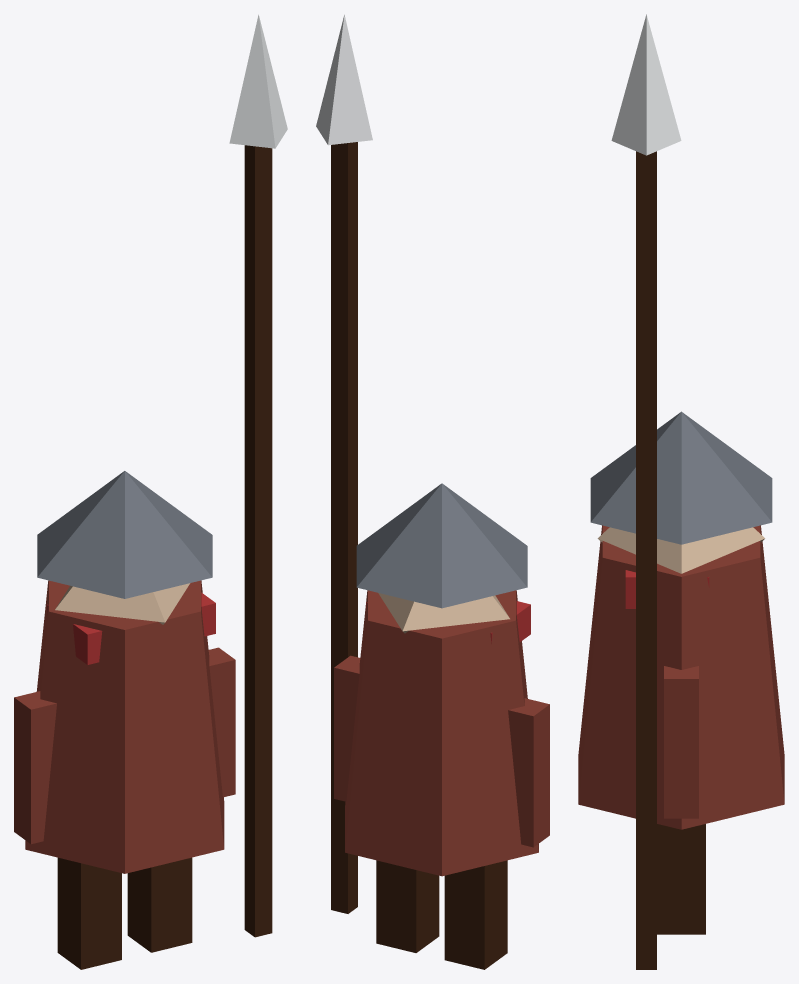
Rendered from soldier_spear.glb.
The picture shows the model from 3 angles, left to right: view 1: azimuth 30°, elevation 25°; view 2: azimuth 150°, elevation 25°; view 3: azimuth 270°, elevation 25°; orthographic projection. The views are drawn at different scales.
Parts seen in each view (by area): view 1: soldier_spear; view 2: soldier_spear; view 3: soldier_spear.
Boxes of the visible parts, bbox=[...] form: soldier_spear: bbox=[14, 14, 287, 969]; soldier_spear: bbox=[316, 14, 549, 969]; soldier_spear: bbox=[578, 14, 784, 969].
Bounding box in the file's own units: 0.425 × 1.5 × 0.2944.
